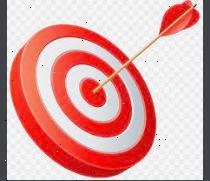target_red: (9, 22, 157, 178)
